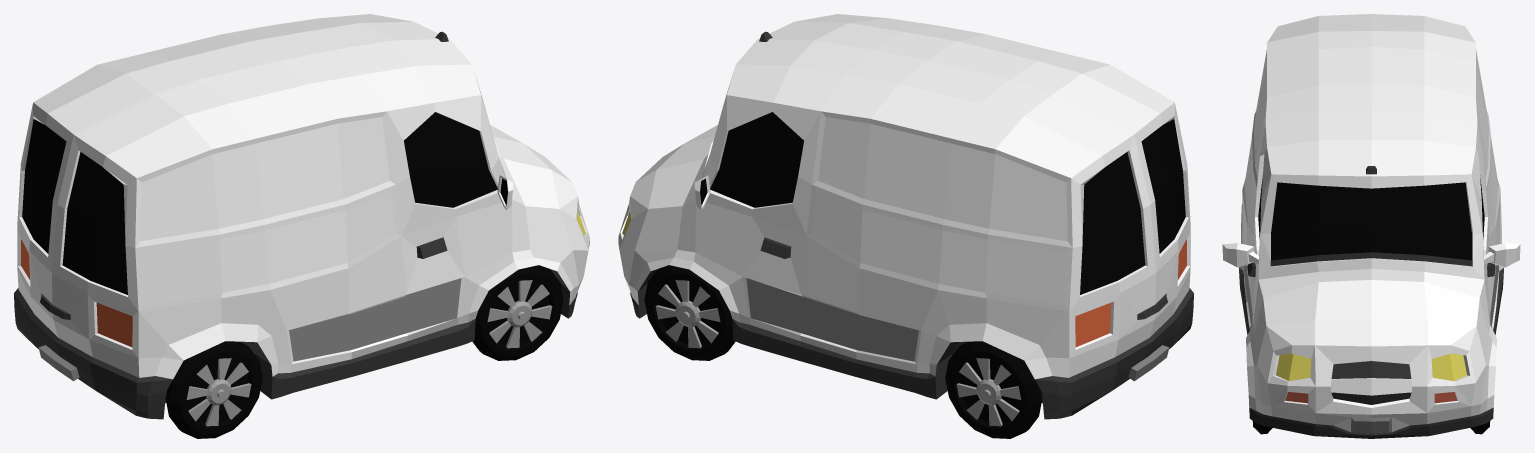
Rendered from van_panel.glb.
3 views of the same model, side by side, from view 1: azimuth 30°, elevation 25°; view 2: azimuth 150°, elevation 25°; view 3: azimuth 270°, elevation 25° (orthographic). The views are drawn at different scales.
Parts seen in each view (by area): view 1: Cube, wheel_front_right.001, wheel_front_right; view 2: Cube, wheel_back_left, wheel_front_left; view 3: Cube, mirrors.
Part boxes in pixels (x1,y1,x2,y2): Cube: (14,14,589,419); wheel_front_right.001: (165,341,262,438); wheel_front_right: (472,265,563,360); Cube: (618,14,1193,419); wheel_back_left: (945,341,1042,438); wheel_front_left: (644,265,735,360); Cube: (1239,14,1503,438); mirrors: (1222,243,1520,267).
Size of the model in its own units: 5.4 by 3.02 by 3.03.
